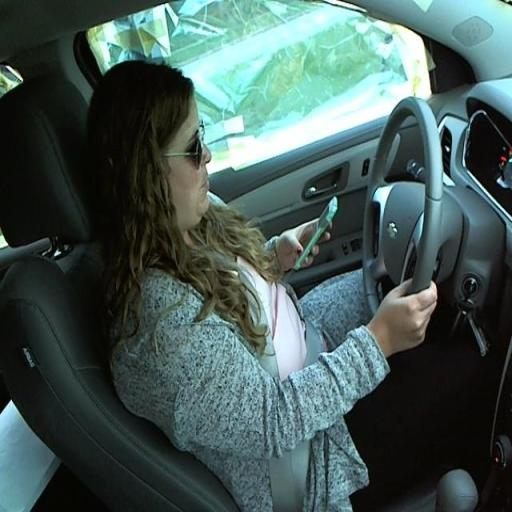texting_phone: (89, 80, 441, 483)
